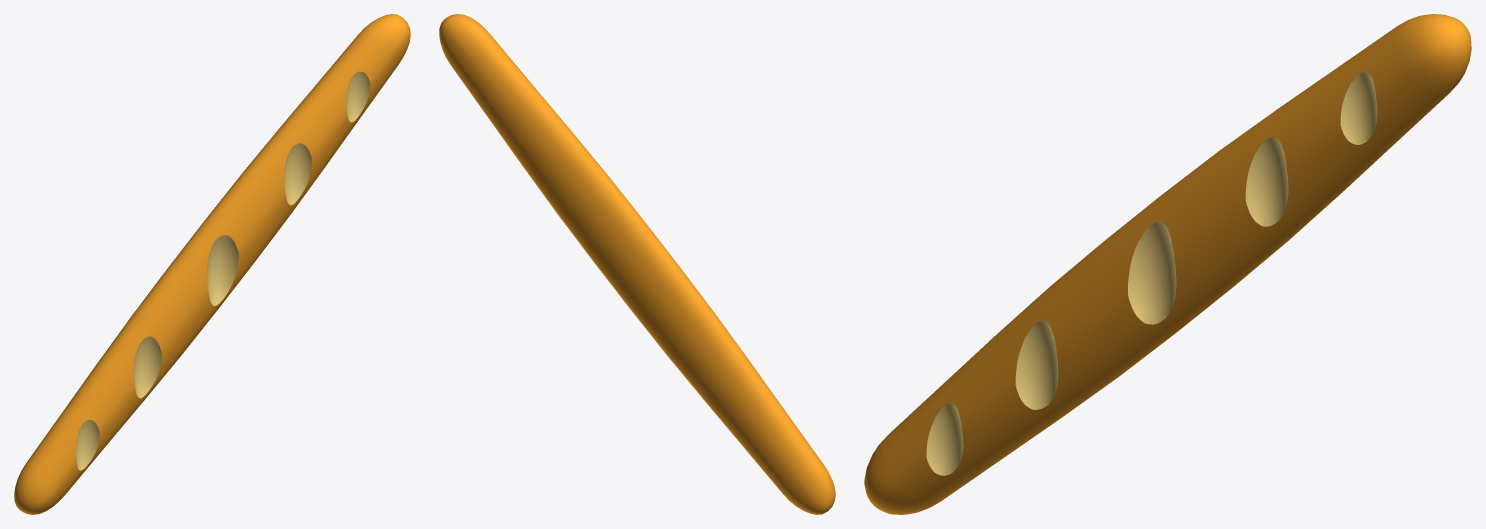
Rendered from baguette_bread.glb.
3 views of the same model, side by side, from view 1: azimuth 30°, elevation 25°; view 2: azimuth 150°, elevation 25°; view 3: azimuth 330°, elevation 25° (orthographic). The views are drawn at different scales.
Visible parts, largest first — view 1: Cylinder.349; view 2: Cylinder.349; view 3: Cylinder.349.
Part boxes in pixels (x1,y1,x2,y2): Cylinder.349: (14,14,410,514); Cylinder.349: (439,14,835,514); Cylinder.349: (864,14,1471,514).
Bounding box in the file's own units: 2.16 × 2.16 × 0.1997.
1 material, 1 textured.
